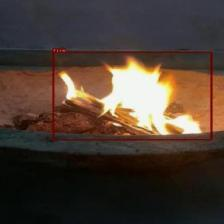fire: (52, 52, 212, 140)
